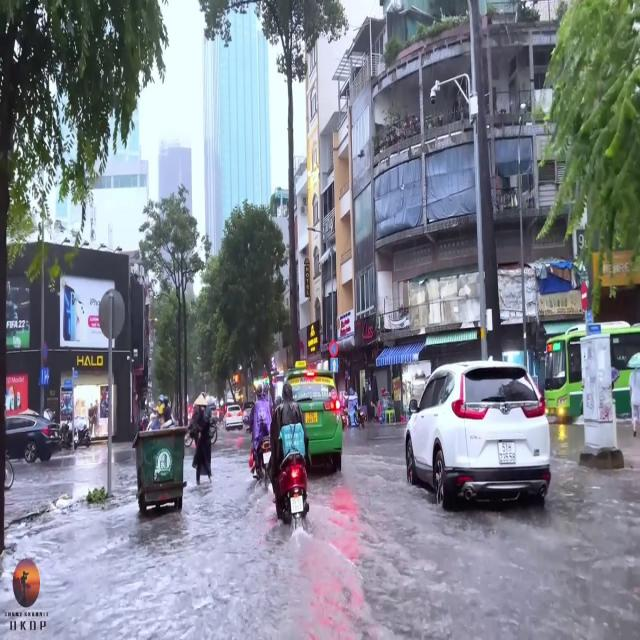bien_trang: (498, 440, 516, 465)
bien_vang: (306, 411, 317, 423)
